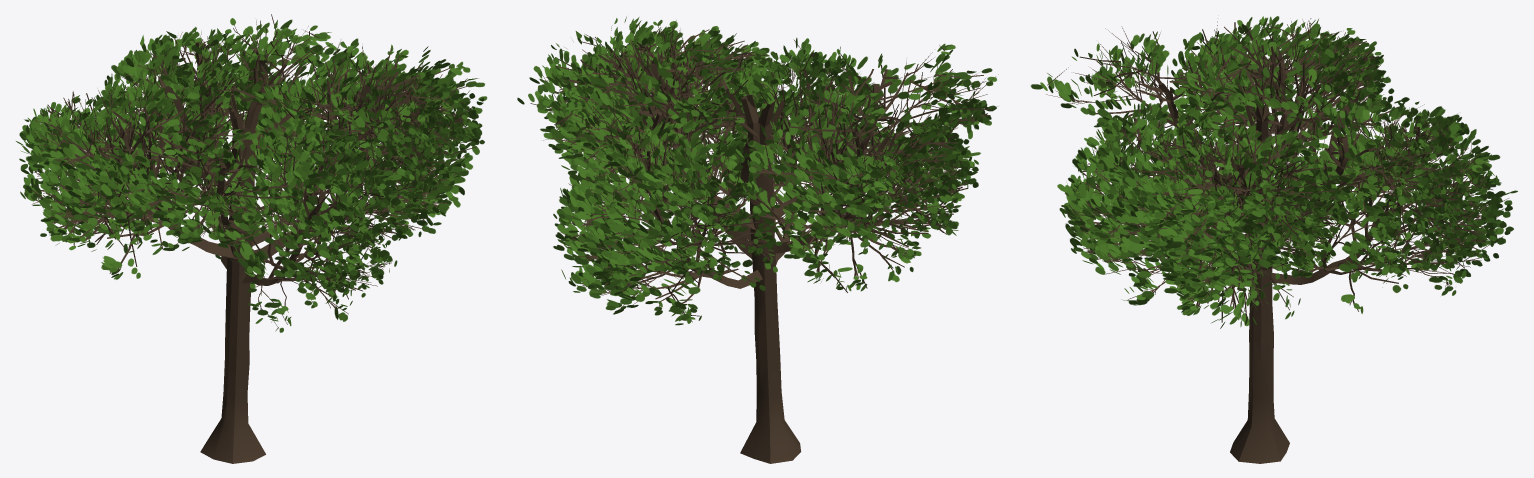
3 views of the same model, side by side, from view 1: azimuth 30°, elevation 25°; view 2: azimuth 150°, elevation 25°; view 3: azimuth 270°, elevation 25° (orthographic).
Parts seen in each view (by area): view 1: oak 01.001_trunk_Mat.001_0.050; view 2: oak 01.001_trunk_Mat.001_0.050; view 3: oak 01.001_trunk_Mat.001_0.050.
Boxes of the visible parts, box(x1,y1,x2,y2) form: oak 01.001_trunk_Mat.001_0.050: box(16, 14, 487, 463); oak 01.001_trunk_Mat.001_0.050: box(517, 16, 998, 463); oak 01.001_trunk_Mat.001_0.050: box(1031, 16, 1517, 463).
Bounding box in the file's own units: 6.11 × 4.79 × 5.81.
2 materials, 1 textured.
